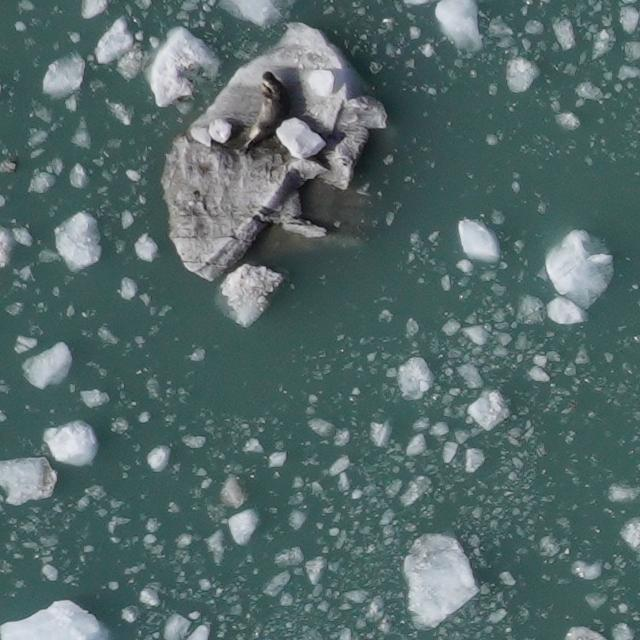seal: (239, 70, 290, 156)
